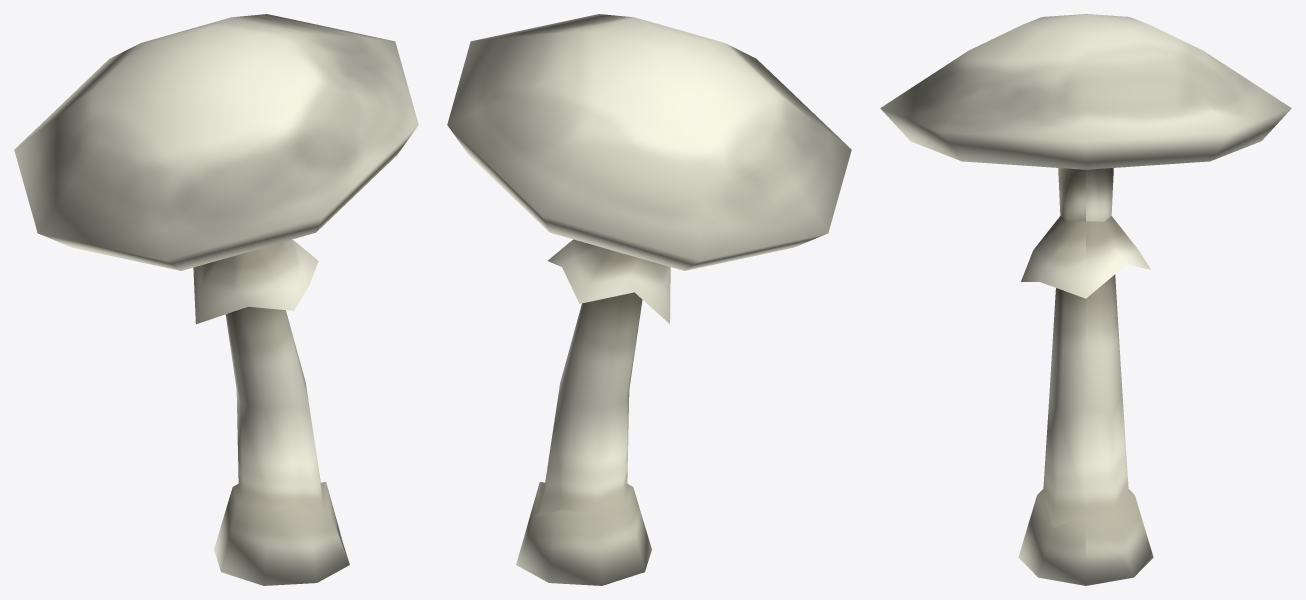
Rendered from JamurDestroyingAngel.fbx.
The picture shows the model from 3 angles, left to right: view 1: azimuth 30°, elevation 25°; view 2: azimuth 150°, elevation 25°; view 3: azimuth 270°, elevation 25°; orthographic projection. The views are drawn at different scales.
Parts seen in each view (by area): view 1: namanya apa?.001; view 2: namanya apa?.001; view 3: namanya apa?.001.
Part boxes in pixels (x1,y1,x2,y2): namanya apa?.001: (14,14,418,585); namanya apa?.001: (447,14,851,585); namanya apa?.001: (880,14,1291,585).
Size of the model in its own units: 33.33 by 47.11 by 34.61.
